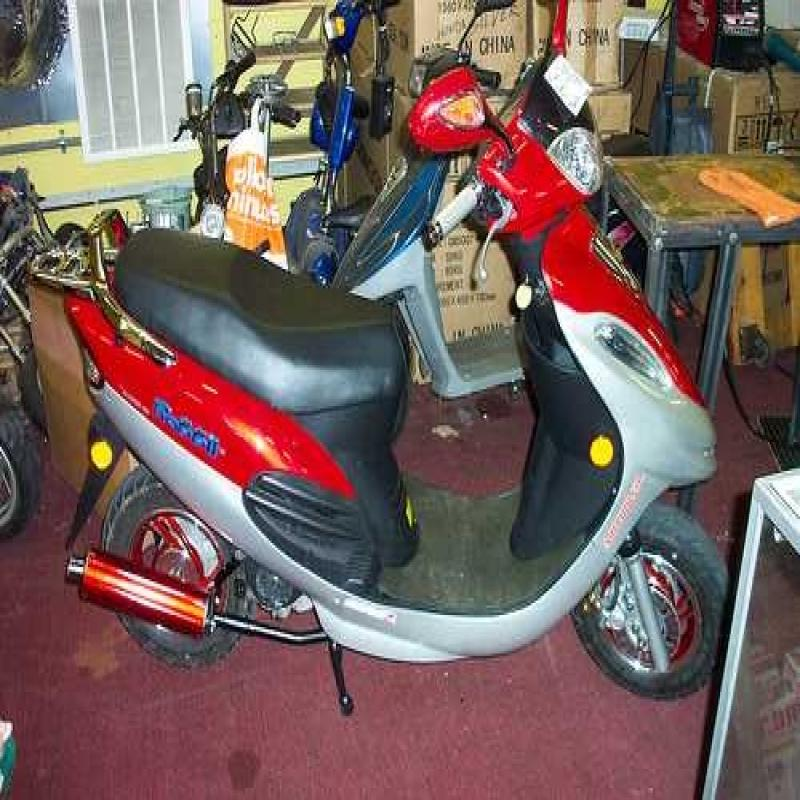bike: (73, 69, 722, 698)
